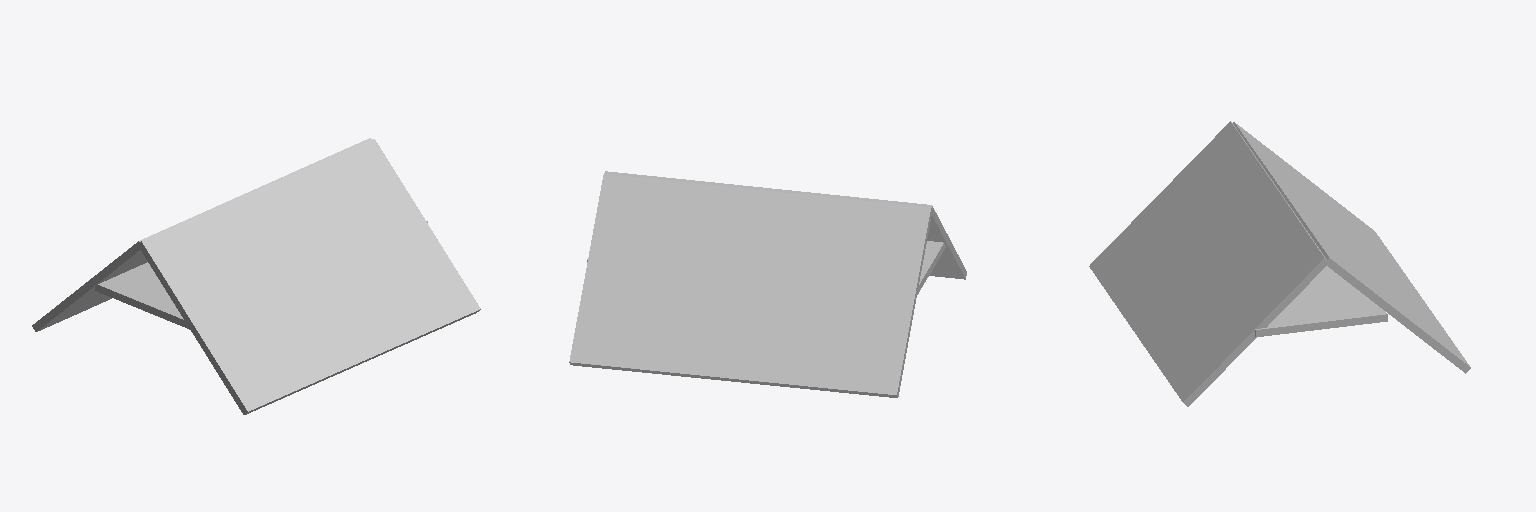
Rendered from casa piccola.obj.
The picture shows the model from 3 angles: view 1: azimuth 30°, elevation 25°; view 2: azimuth 150°, elevation 25°; view 3: azimuth 270°, elevation 25°; orthographic projection.
Parts seen in each view (by area): view 1: Cube 1 (223), Cube 1 (224), Cube 1 (225); view 2: Cube 1 (224), Cube 1 (223), Cube 1 (225); view 3: Cube 1 (223), Cube 1 (224), Cube 1 (225).
Boxes of the visible parts, box(x1,y1,x2,y2) form: Cube 1 (223): box(140, 139, 480, 414); Cube 1 (224): box(32, 138, 371, 331); Cube 1 (225): box(95, 221, 427, 329); Cube 1 (224): box(569, 174, 932, 397); Cube 1 (223): box(604, 171, 966, 279); Cube 1 (225): box(587, 241, 945, 294); Cube 1 (223): box(1089, 121, 1329, 406); Cube 1 (224): box(1233, 122, 1470, 373); Cube 1 (225): box(1255, 266, 1387, 336).
Size of the model in its own units: 4.93 by 1.78 by 4.63.